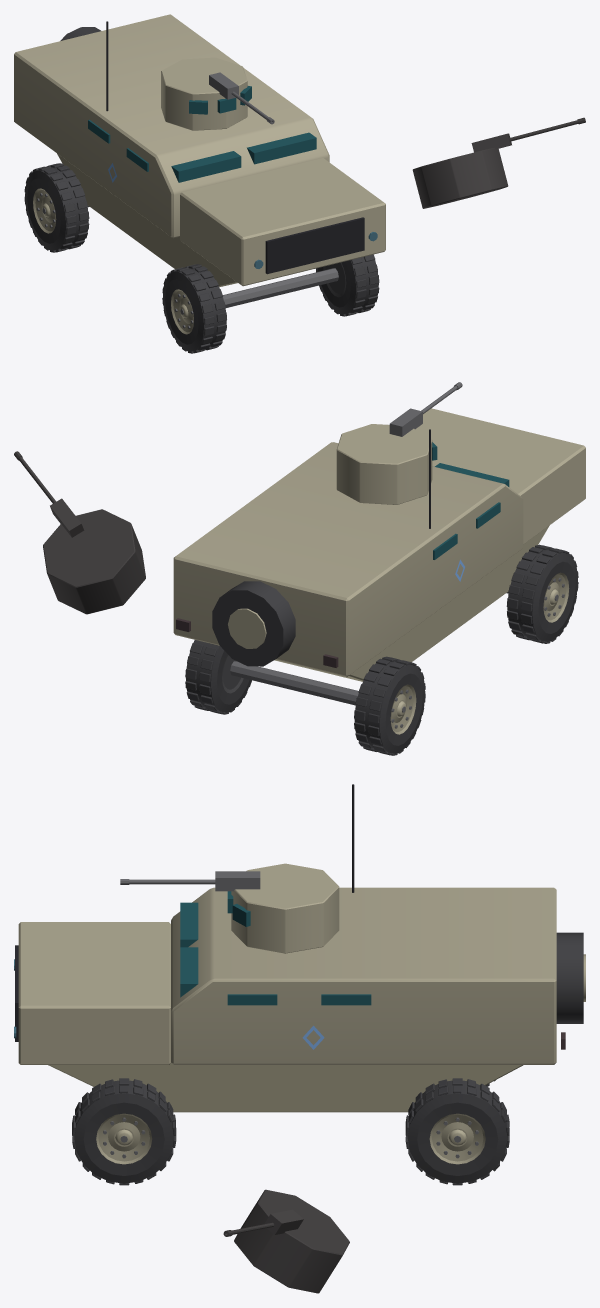
The model's file is reconVehicle__komatsu_lav.glb.
3 views of the same model, one above another, from view 1: azimuth 30°, elevation 25°; view 2: azimuth 150°, elevation 25°; view 3: azimuth 270°, elevation 25° (orthographic). The views are drawn at different scales.
Visible parts, largest first — view 1: Hull_Mesh, Turret_Mesh, Wreck, Wheel_L1_Mesh, Wheel_L0_Mesh, Wheel_R1_Mesh, Gun_Mesh; view 2: Hull_Mesh, Wreck, Turret_Mesh, Wheel_L0_Mesh, Wheel_L1_Mesh, Wheel_R0_Mesh, Gun_Mesh; view 3: Hull_Mesh, Wheel_R0_Mesh, Wheel_R1_Mesh, Turret_Mesh, Wreck, Gun_Mesh.
Part boxes in pixels (bbox=[...]): Hull_Mesh: bbox=[14, 14, 385, 307]; Turret_Mesh: bbox=[161, 57, 251, 130]; Wreck: bbox=[35, 117, 585, 351]; Wheel_L1_Mesh: bbox=[162, 264, 226, 353]; Wheel_L0_Mesh: bbox=[24, 163, 89, 252]; Wheel_R1_Mesh: bbox=[316, 254, 379, 316]; Gun_Mesh: bbox=[209, 72, 274, 124]; Hull_Mesh: bbox=[173, 408, 585, 705]; Wreck: bbox=[14, 451, 573, 743]; Turret_Mesh: bbox=[336, 424, 437, 504]; Wheel_L0_Mesh: bbox=[354, 656, 425, 755]; Wheel_L1_Mesh: bbox=[506, 544, 578, 643]; Wheel_R0_Mesh: bbox=[185, 640, 251, 714]; Gun_Mesh: bbox=[389, 382, 462, 436]; Hull_Mesh: bbox=[14, 784, 585, 1112]; Wheel_R0_Mesh: bbox=[405, 1078, 509, 1185]; Wheel_R1_Mesh: bbox=[72, 1078, 176, 1185]; Turret_Mesh: bbox=[227, 863, 339, 953]; Wreck: bbox=[83, 1164, 498, 1293]; Gun_Mesh: bbox=[120, 871, 260, 891].
Size of what is drawn, in the model's own units: 5.52 by 3.01 by 5.06.
